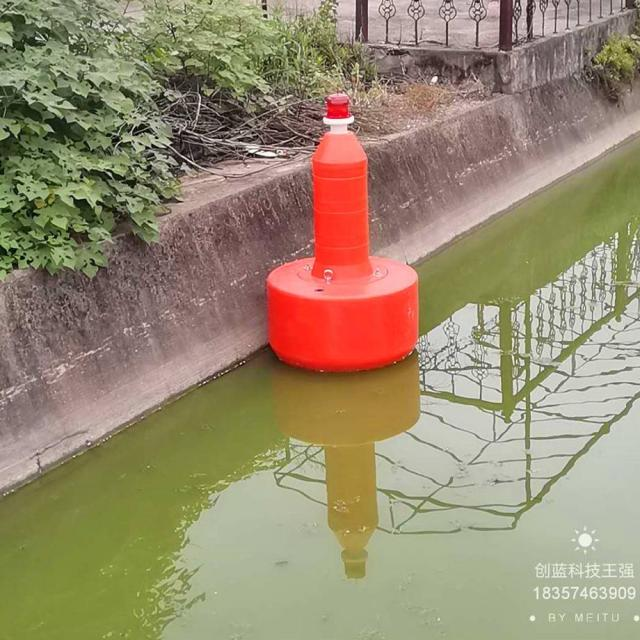buoy: (262, 88, 422, 369)
